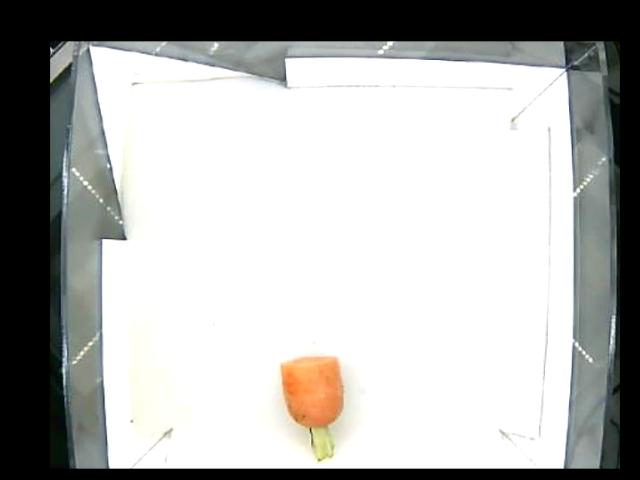Carrot: (282, 354, 344, 465)
